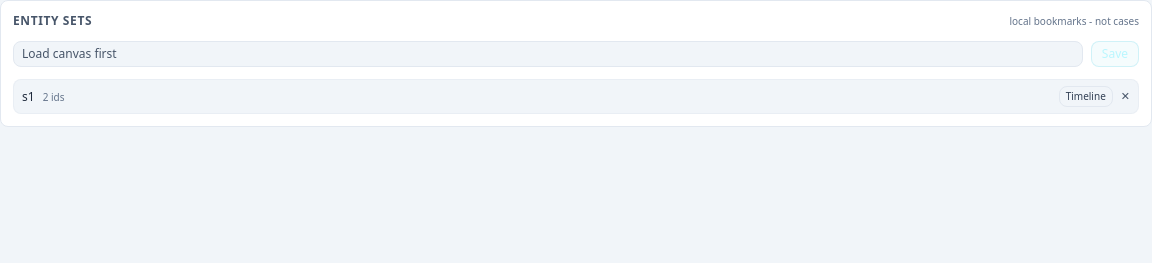
Test: EntitySetPanel polish › color-codes timeline rows per entity (stable assignment)
What coordinates should you click on to do the following:
click the button with test id "entity-set-timeline-s1"
I would click on:
 (1086, 96)
Its box is [1059,86,1113,107].
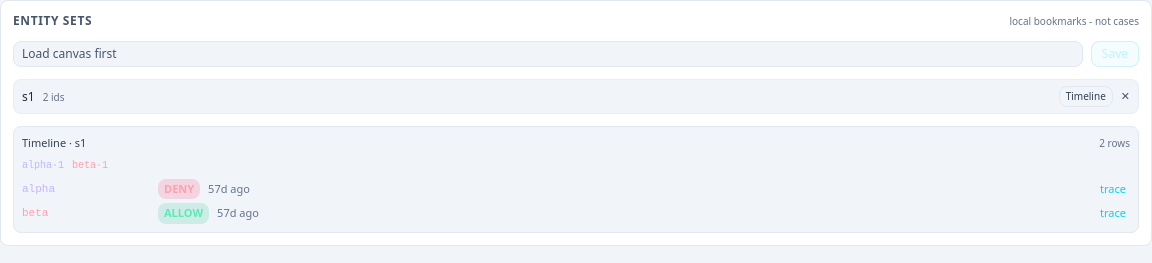
Expected: the text "2 rows" is shown, [1099,136,1130,151]
Expected: the number of elements with test id "timeline-entity-chip" is 2, [22,182,55,194]; [22,207,48,219]
